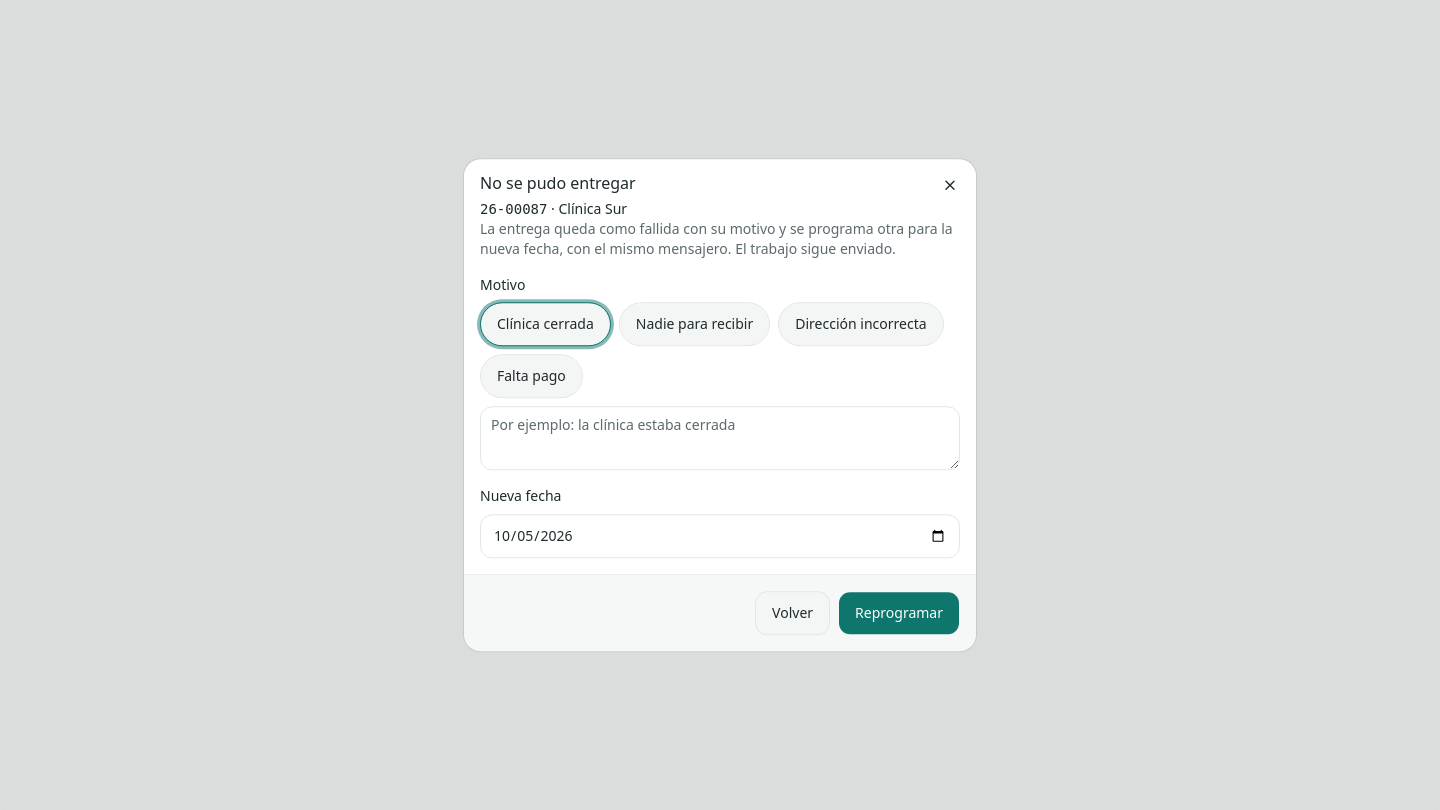
Test: FailDialog › elegir un motivo frecuente quita el error de motivo vacío
This screenshot has width=1440, height=810.
Click the button "Reprogramar" at x=899, y=613, box [838,591,960,635]
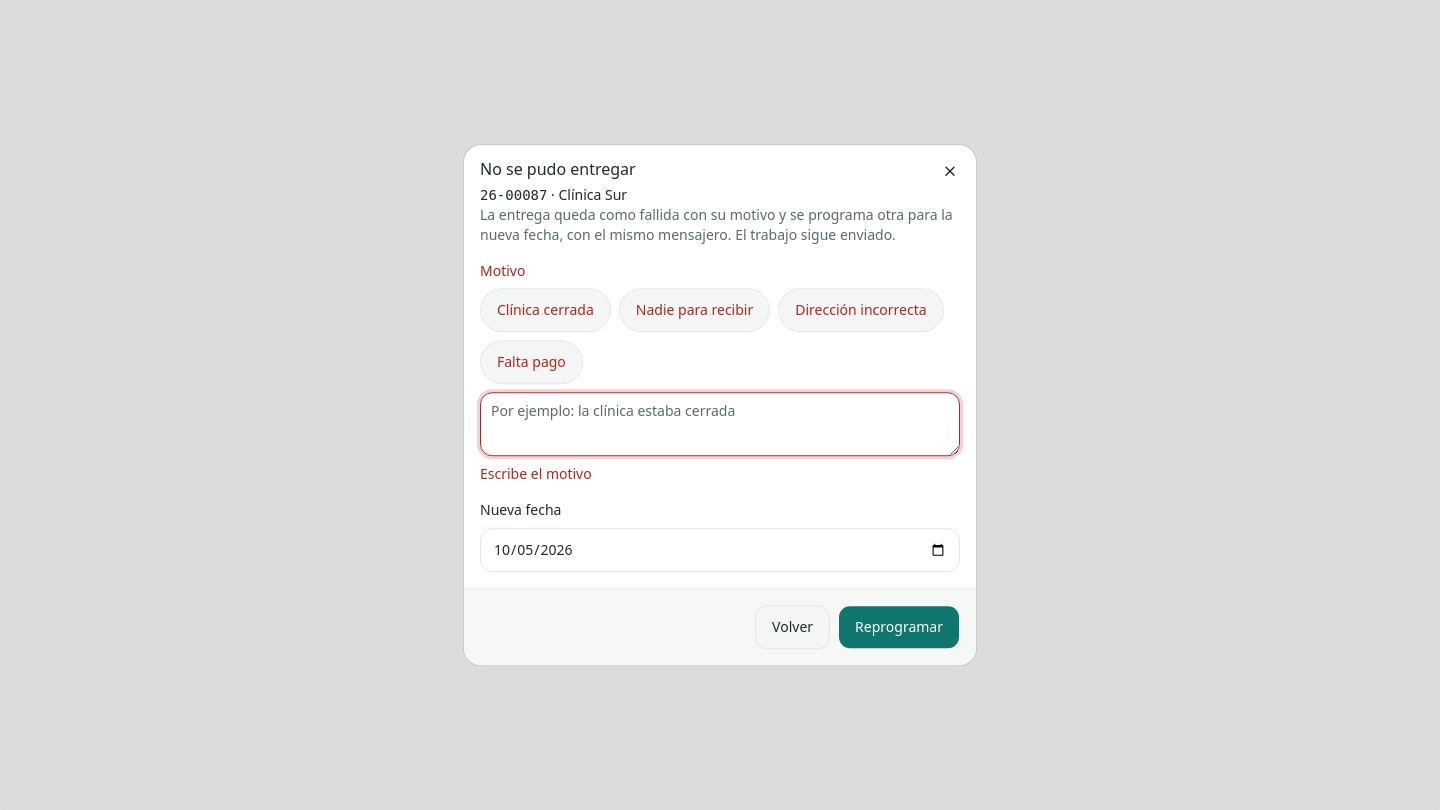
Expected: the text "Escribe el motivo" is shown, [480,464,592,484]
Click the button "Falta pago" at x=531, y=362, box [480,340,583,384]
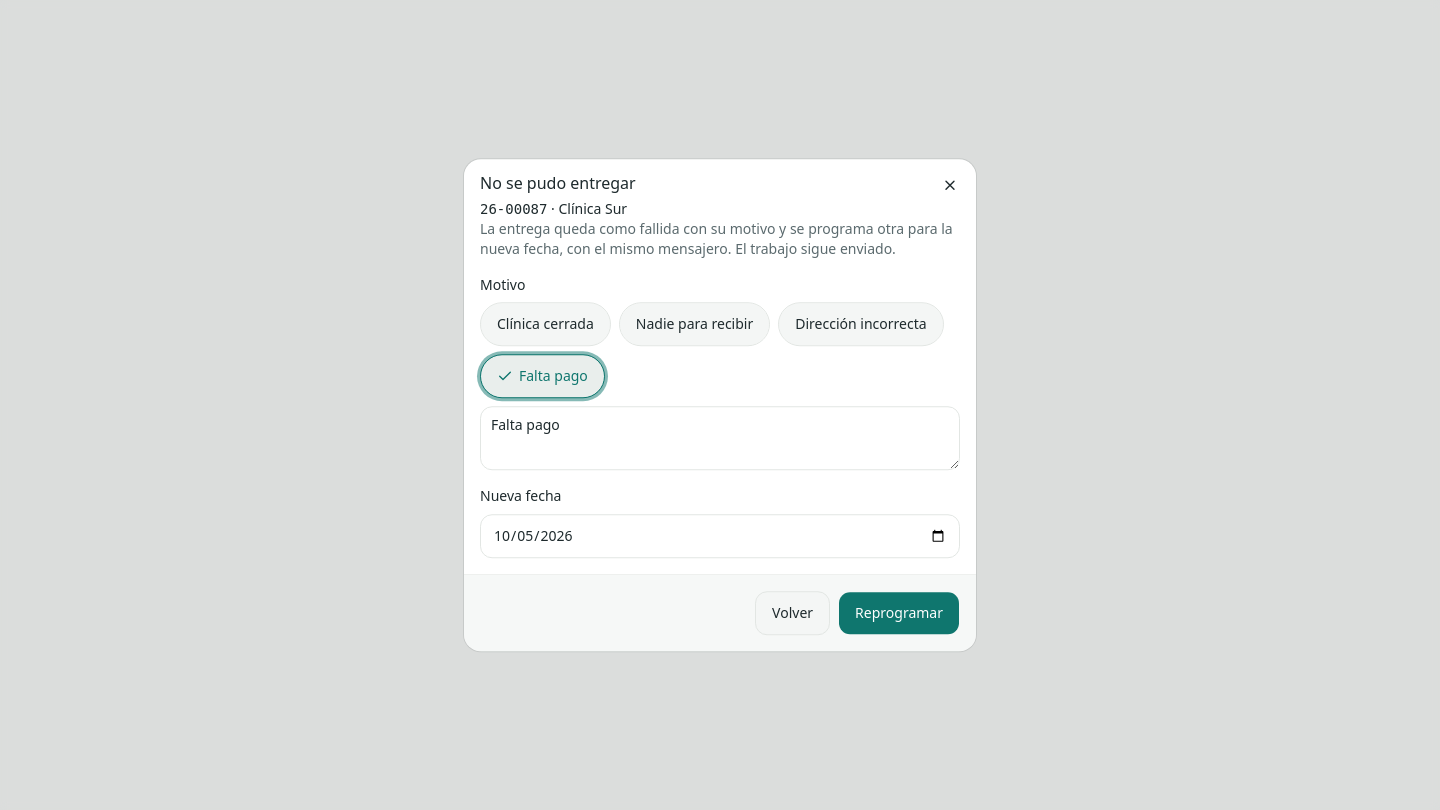
Expected: the text "Escribe el motivo" is gone
